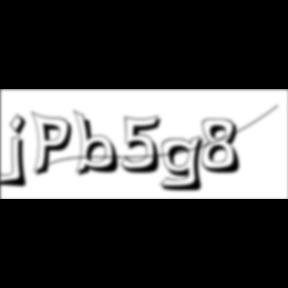5: (120, 114, 168, 176)
8: (202, 117, 246, 176)
P: (31, 110, 78, 180)
b: (74, 109, 126, 179)
g: (160, 134, 212, 194)
j: (7, 113, 34, 191)
